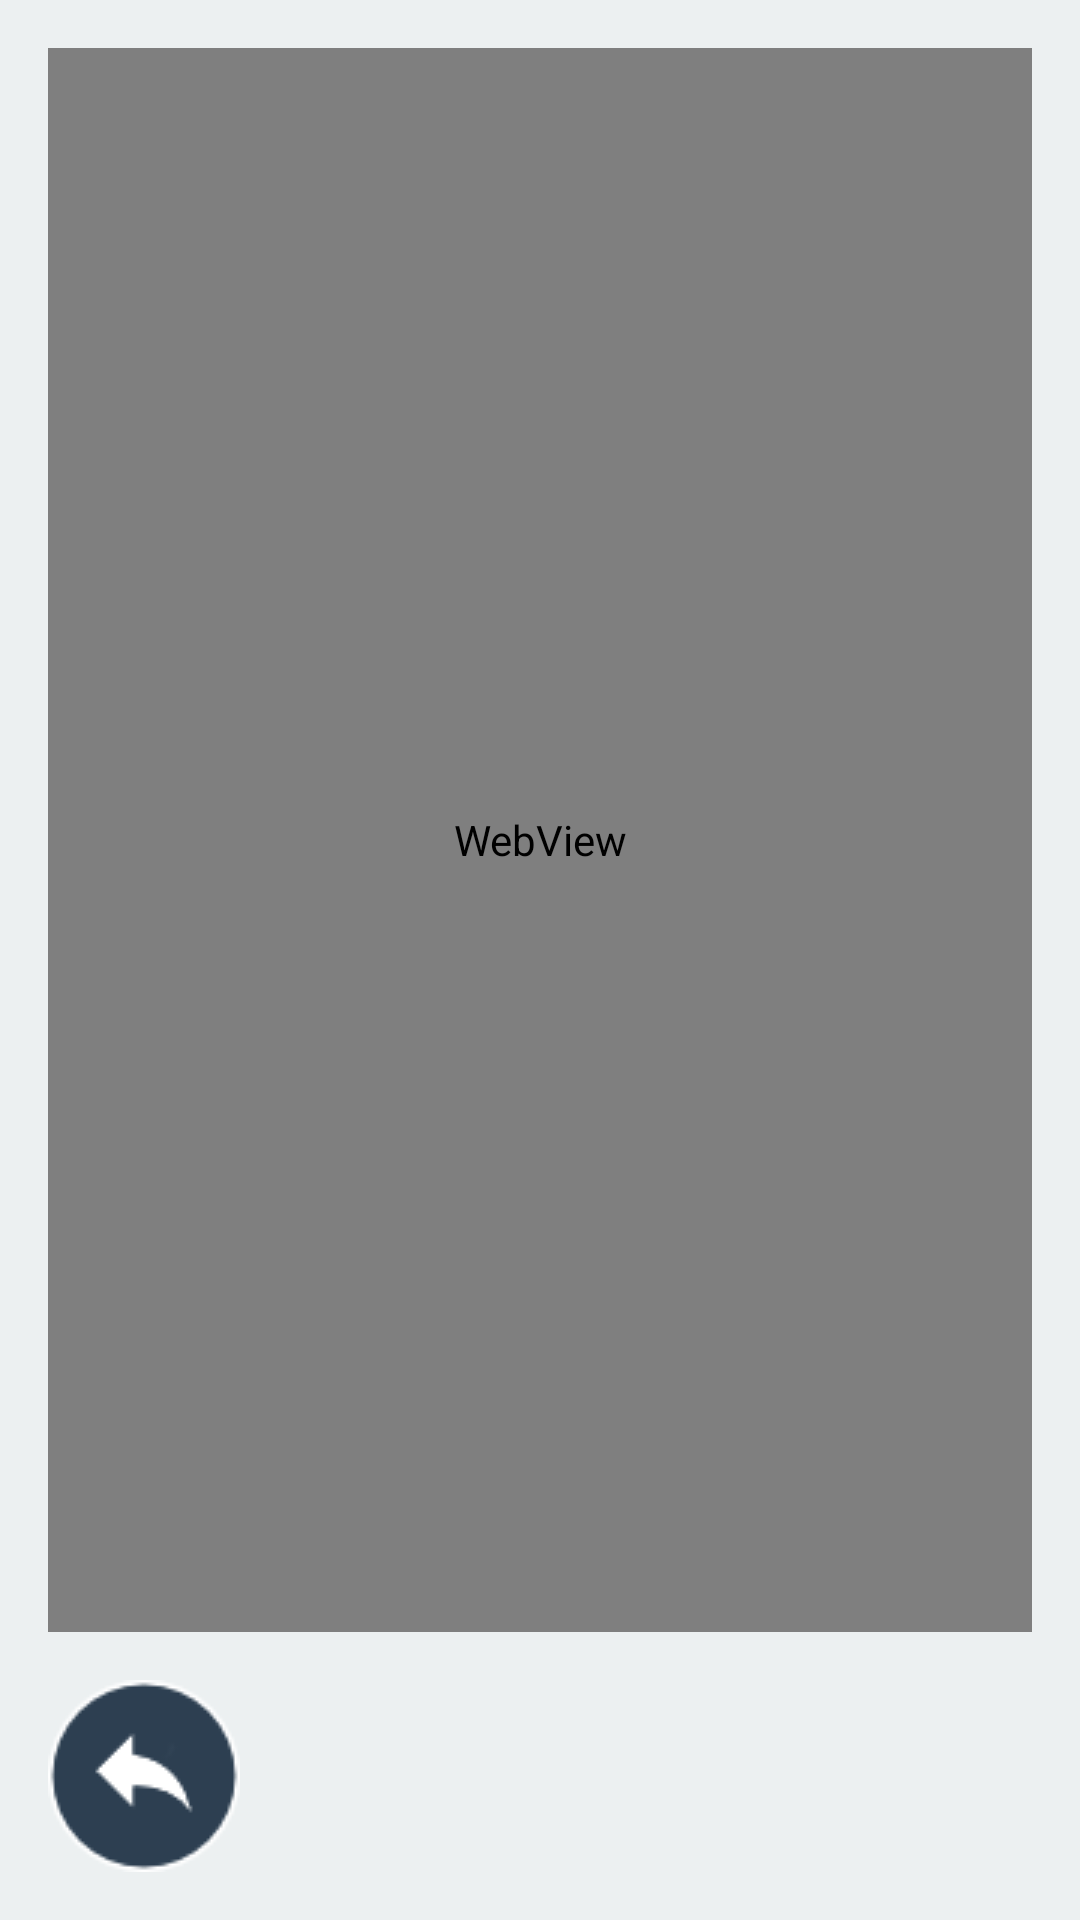

Named icons in this screenshot (1080 × 1920) and their bounding boxes, [x1,y1,x2,y2]:
back: [51,1683,237,1869]
